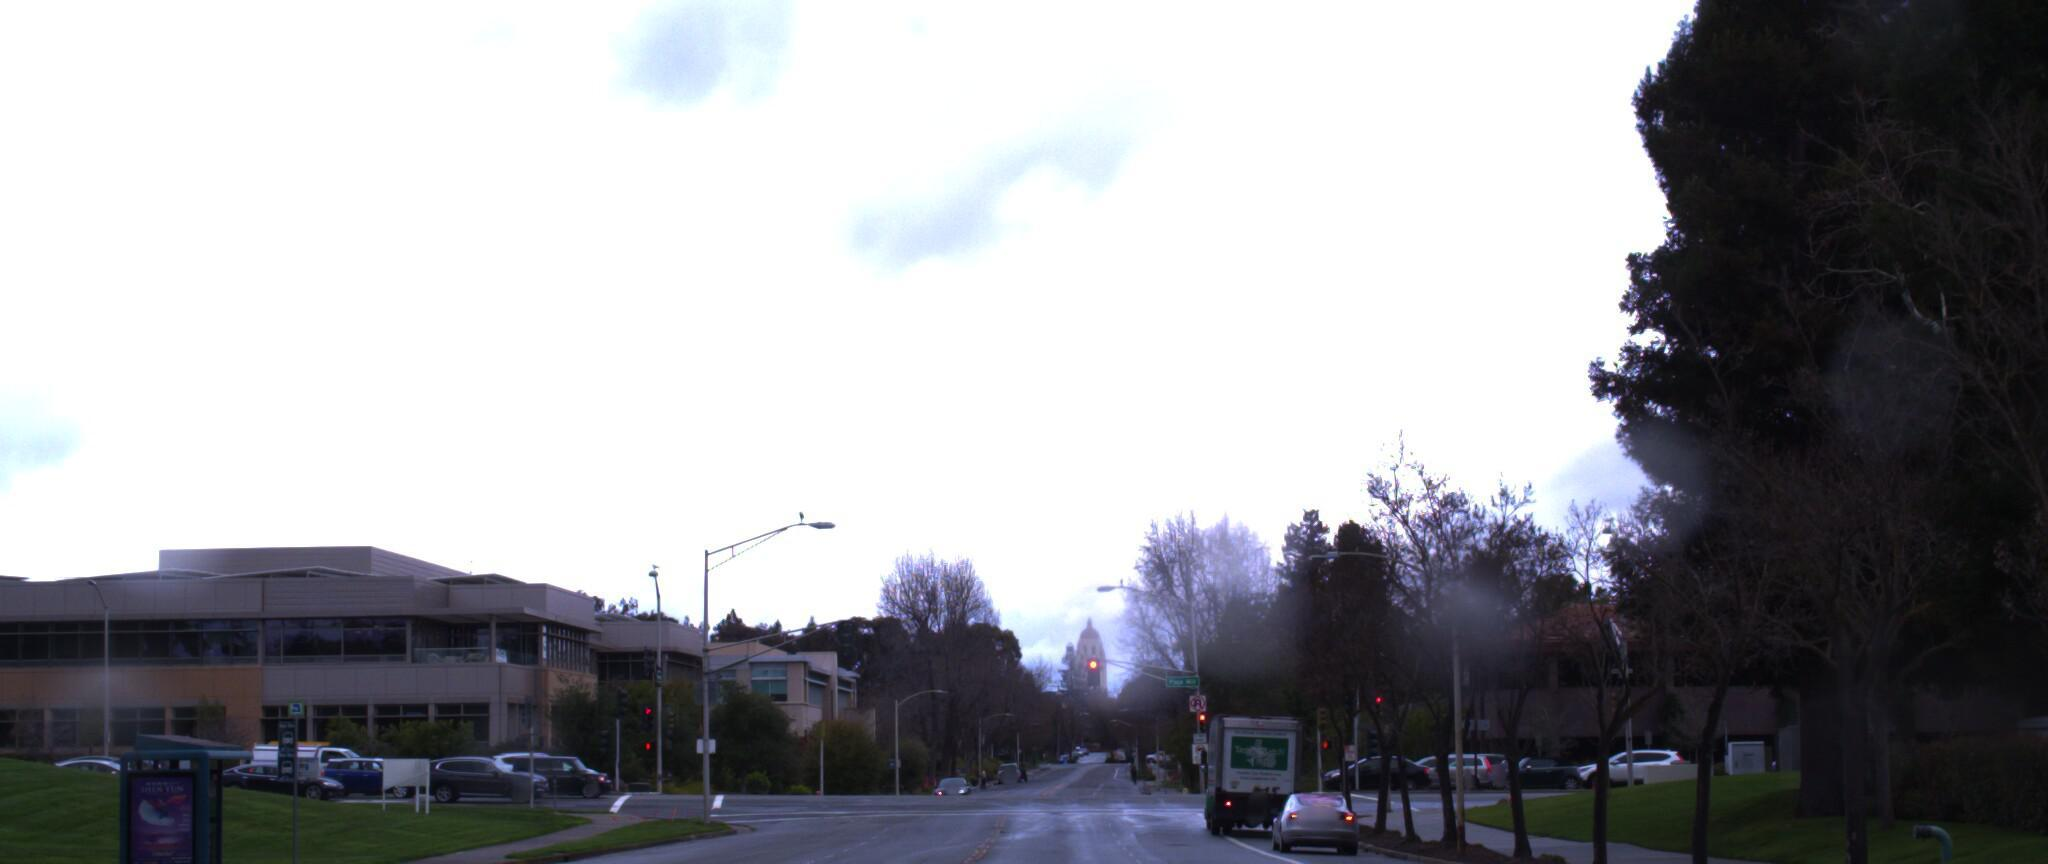car: (1270, 797, 1356, 864)
